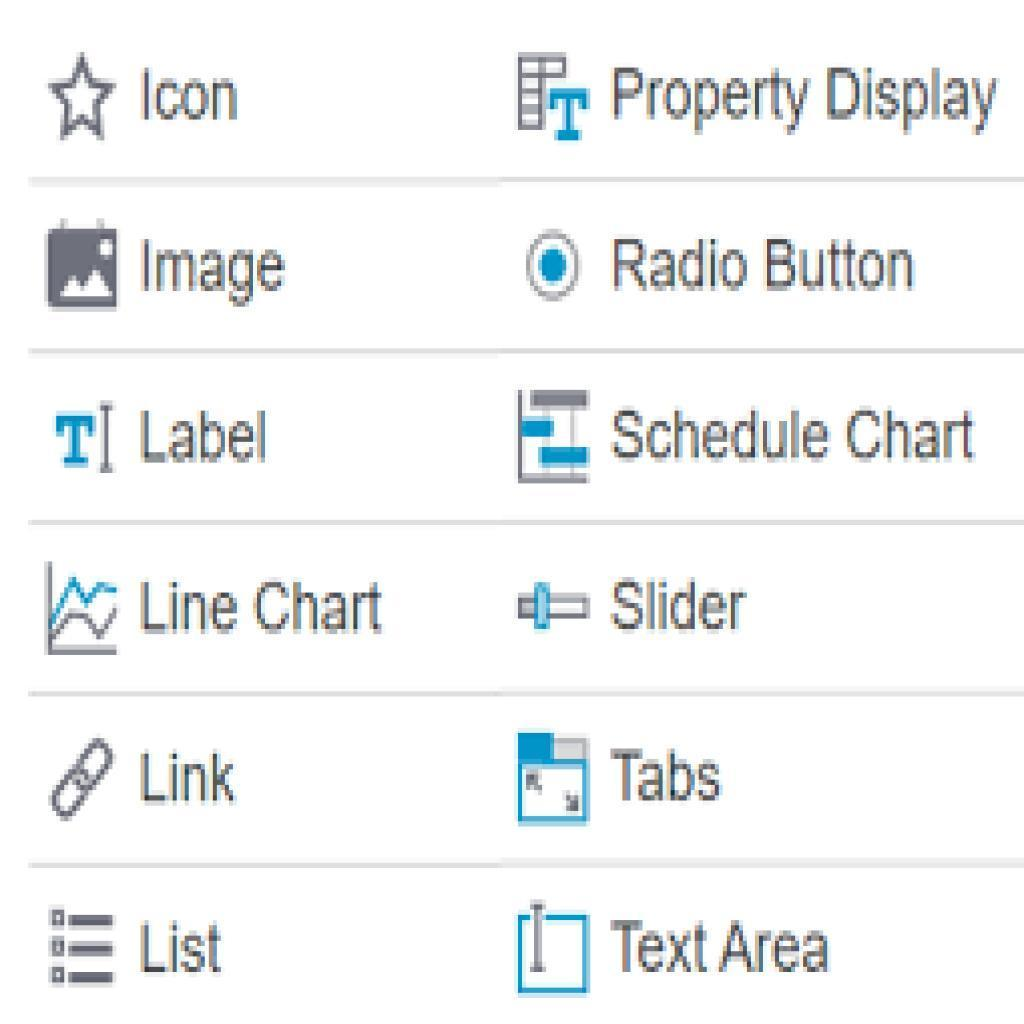icon: (39, 556, 125, 675), (509, 723, 597, 838), (35, 214, 125, 326), (509, 39, 595, 156), (513, 897, 597, 1006), (515, 382, 596, 491), (42, 48, 124, 151), (43, 899, 126, 996), (41, 393, 125, 482), (48, 730, 116, 837)
radio: (522, 228, 584, 307)
slider: (516, 579, 595, 638)
